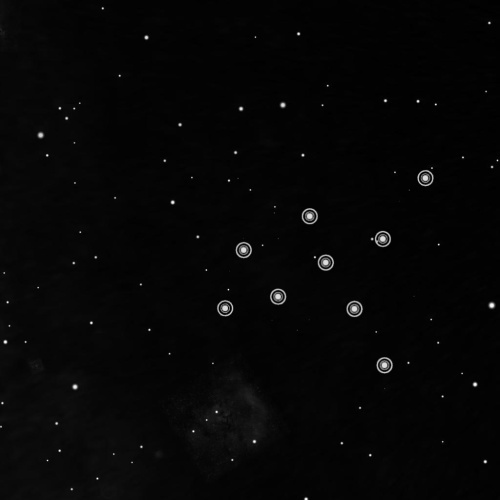cygnus: (210, 161, 438, 379)
